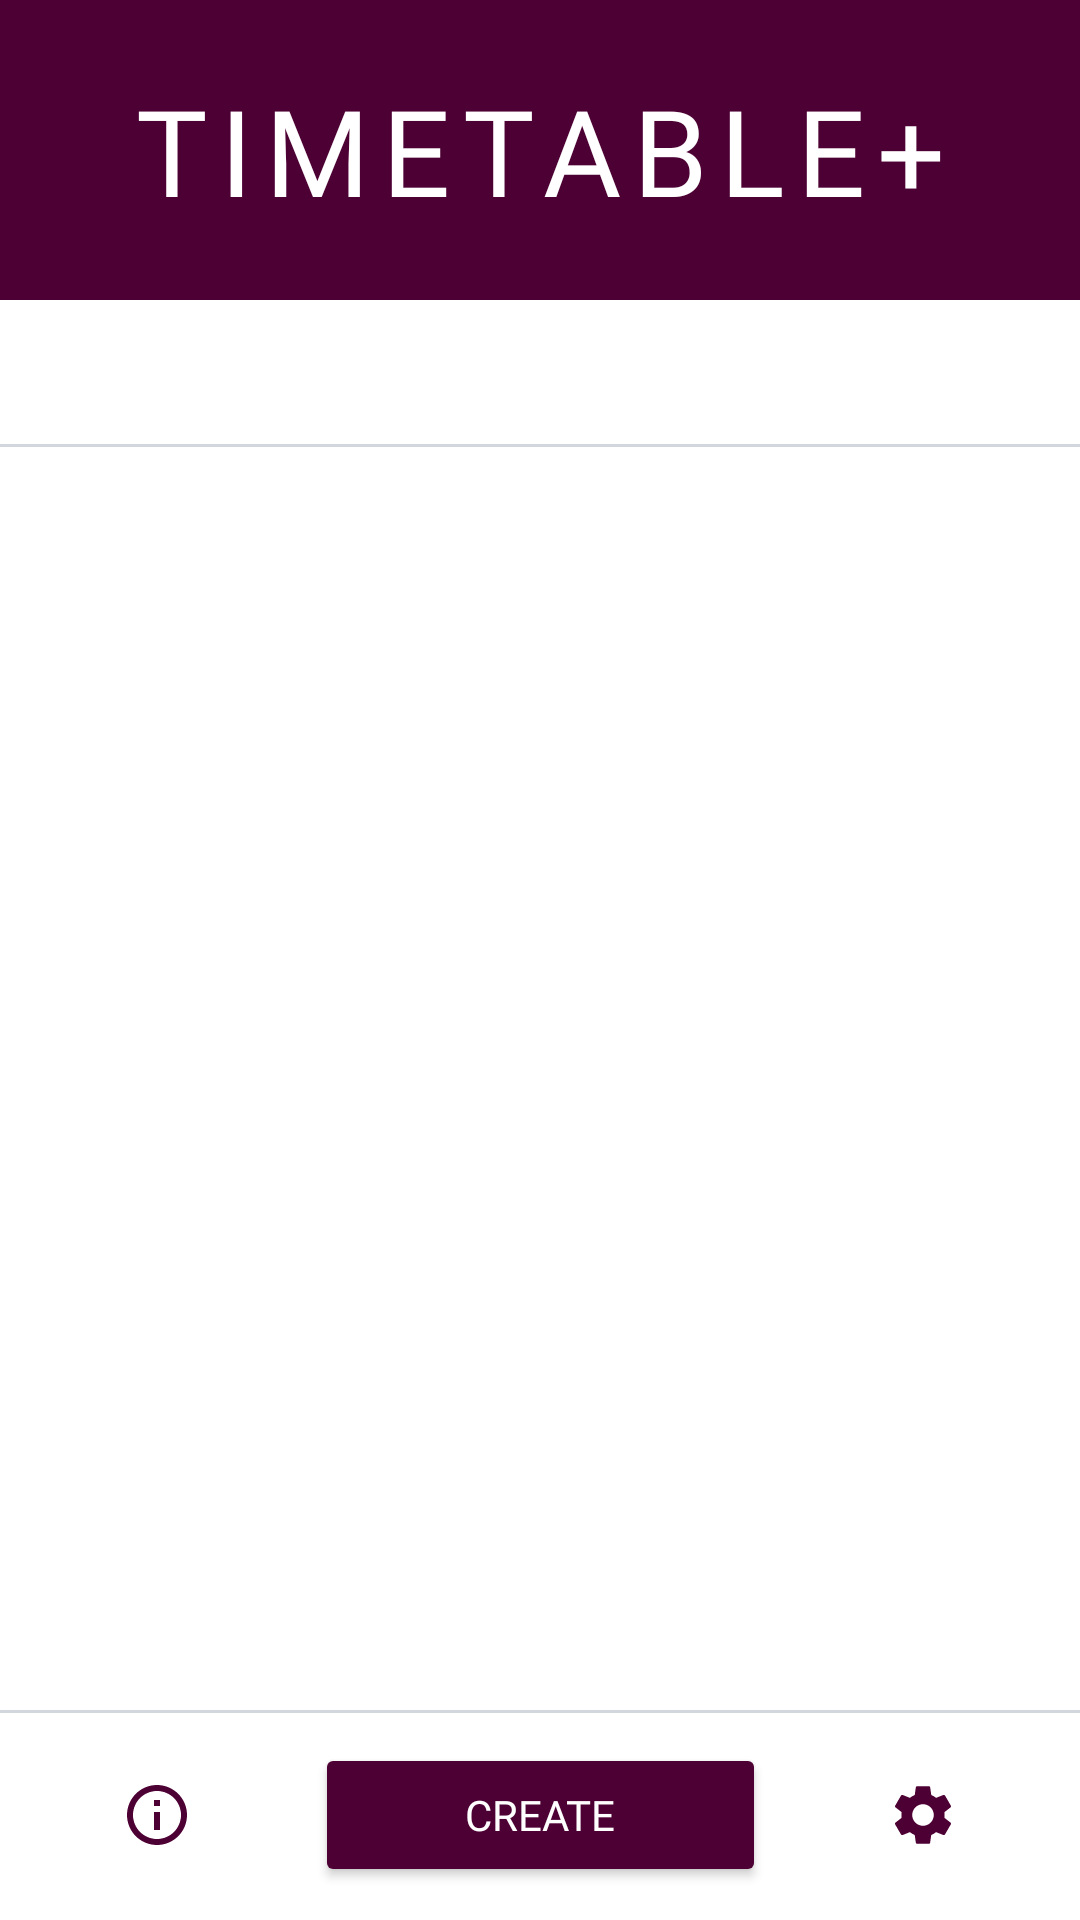

Icons on this 1080x1920 Android screen, each with the point to tap as point (x, y):
info: point (157, 1815)
settings: point (923, 1815)
